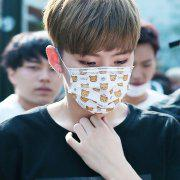NONE: (19, 58, 61, 103)
OK: (63, 41, 137, 115)
WRONG: (122, 54, 157, 98)
